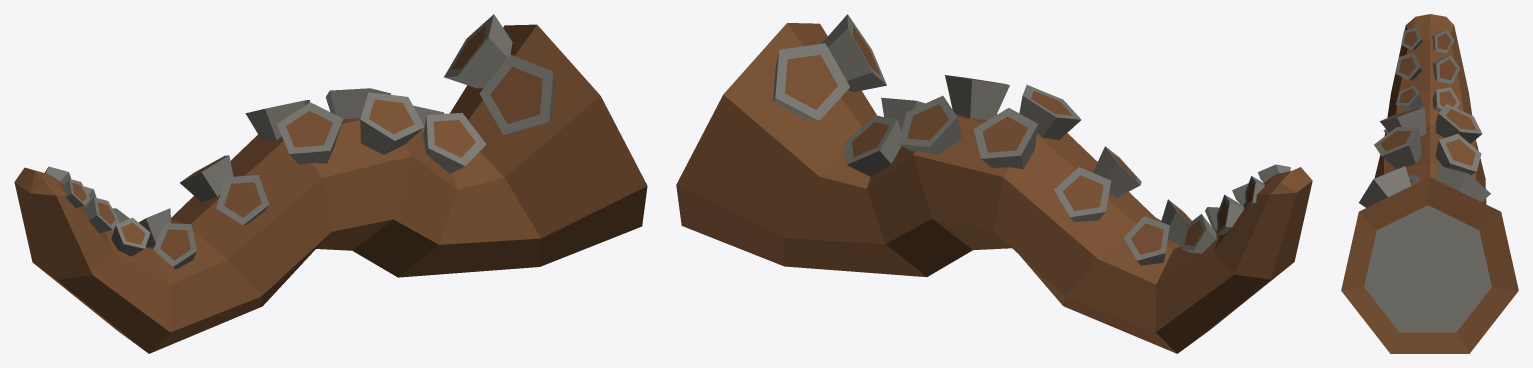
The model's file is cc0-tentacle-lod0.glb.
3 views of the same model, side by side, from view 1: azimuth 30°, elevation 25°; view 2: azimuth 150°, elevation 25°; view 3: azimuth 270°, elevation 25° (orthographic). The views are drawn at different scales.
Parts seen in each view (by area): view 1: part_0; view 2: part_0; view 3: part_0.
Boxes of the visible parts, x1,y1,x2,y2 form: part_0: [14, 14, 647, 353]; part_0: [676, 14, 1312, 353]; part_0: [1341, 14, 1518, 353].
Bounding box in the file's own units: 0.762 × 0.2757 × 0.2673.
